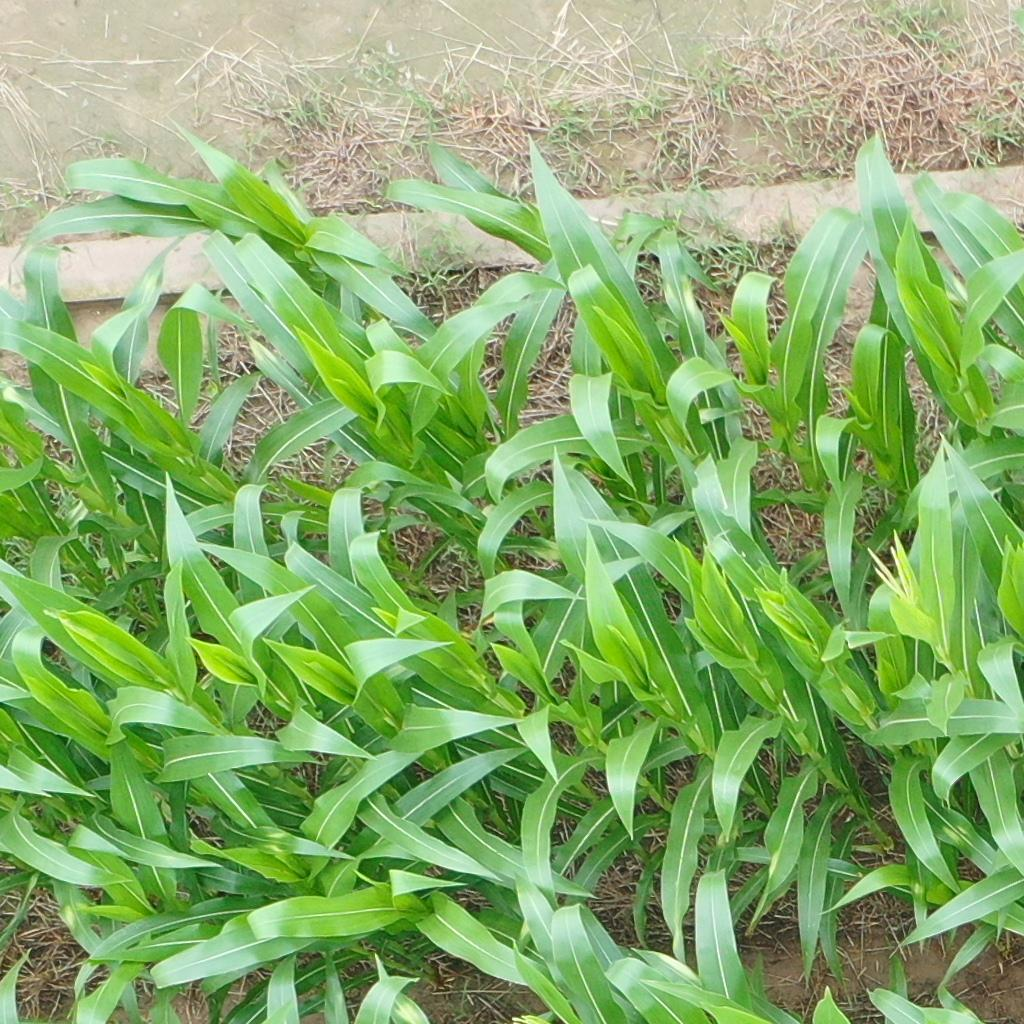Tassel: (862, 540, 915, 610), (765, 596, 794, 625), (504, 1009, 555, 1024)
